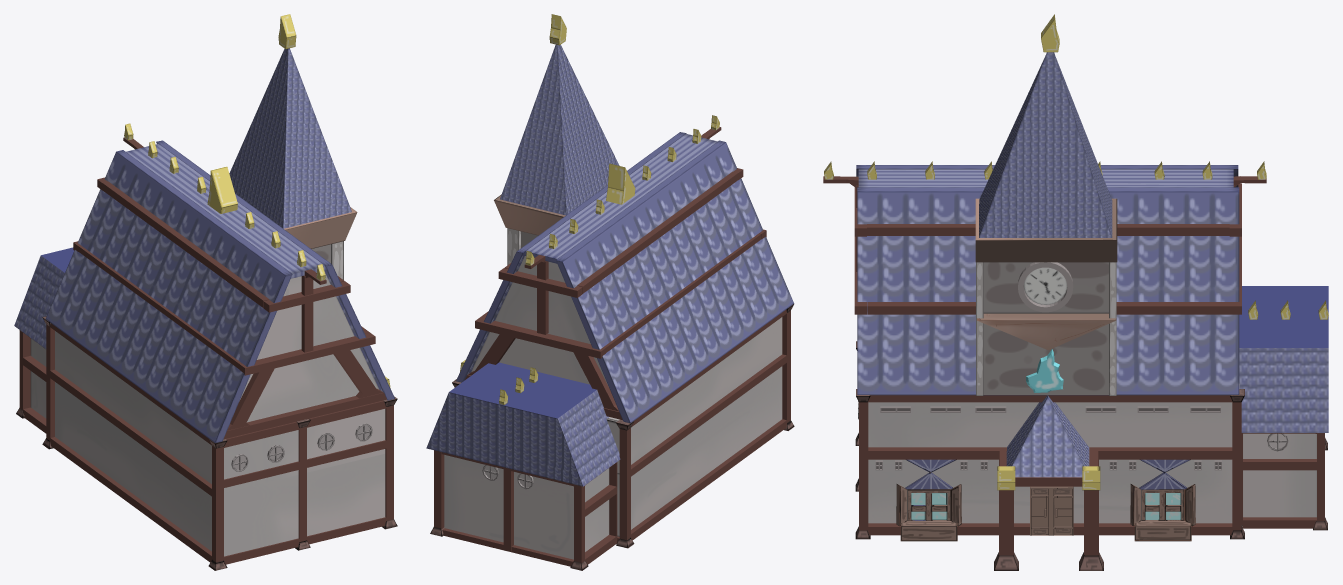
Rendered from townhall17.fbx.
3 renders of one model, left to right at view 1: azimuth 30°, elevation 25°; view 2: azimuth 150°, elevation 25°; view 3: azimuth 270°, elevation 25°, orthographic. The views are drawn at different scales.
Parts seen in each view (by area): view 1: atap; view 2: atap; view 3: atap.
Part boxes in pixels (x1,y1,x2,y2): atap: (14, 14, 397, 570); atap: (426, 14, 794, 570); atap: (823, 14, 1328, 570).
Size of the model in its own units: 107 by 196 by 175.
